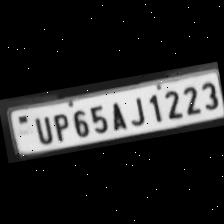1: (140, 90, 162, 124)
2: (160, 86, 184, 121), (176, 82, 200, 117)
3: (196, 76, 220, 112)
5: (84, 100, 110, 135)
6: (66, 104, 90, 138)
A: (104, 97, 128, 132)
J: (122, 92, 146, 128)
P: (46, 108, 71, 142)
U: (28, 111, 54, 146)
